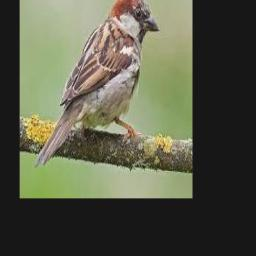Sparrow: (35, 0, 160, 166)
